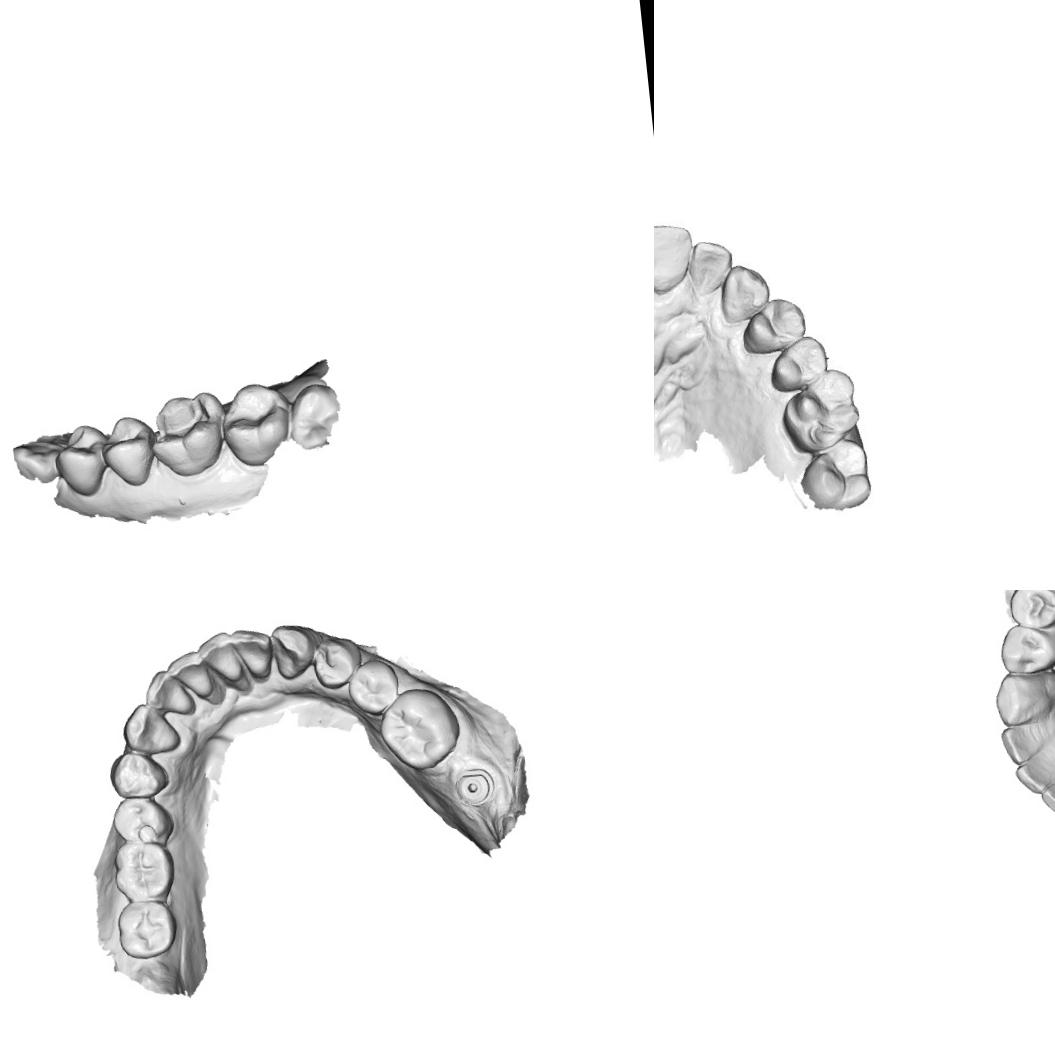canine: (990, 664, 1055, 728), (712, 260, 773, 325), (118, 698, 182, 758), (267, 621, 320, 682)
implant: (451, 763, 496, 809)
incisor: (654, 217, 697, 296), (227, 622, 278, 682), (164, 646, 216, 704), (141, 667, 196, 721), (684, 235, 734, 294), (196, 629, 245, 688), (1000, 719, 1046, 770), (1009, 755, 1054, 799), (1039, 771, 1055, 821)
molar: (374, 682, 464, 776), (778, 364, 864, 456), (147, 389, 228, 480), (218, 378, 294, 467), (797, 436, 878, 516), (108, 838, 176, 906), (114, 899, 179, 962)
premolar: (50, 421, 115, 501), (736, 296, 810, 362), (100, 412, 161, 491), (768, 334, 832, 394), (109, 792, 176, 848), (344, 656, 402, 720), (106, 747, 172, 800), (995, 620, 1055, 678), (308, 632, 364, 690), (1004, 590, 1055, 632)
